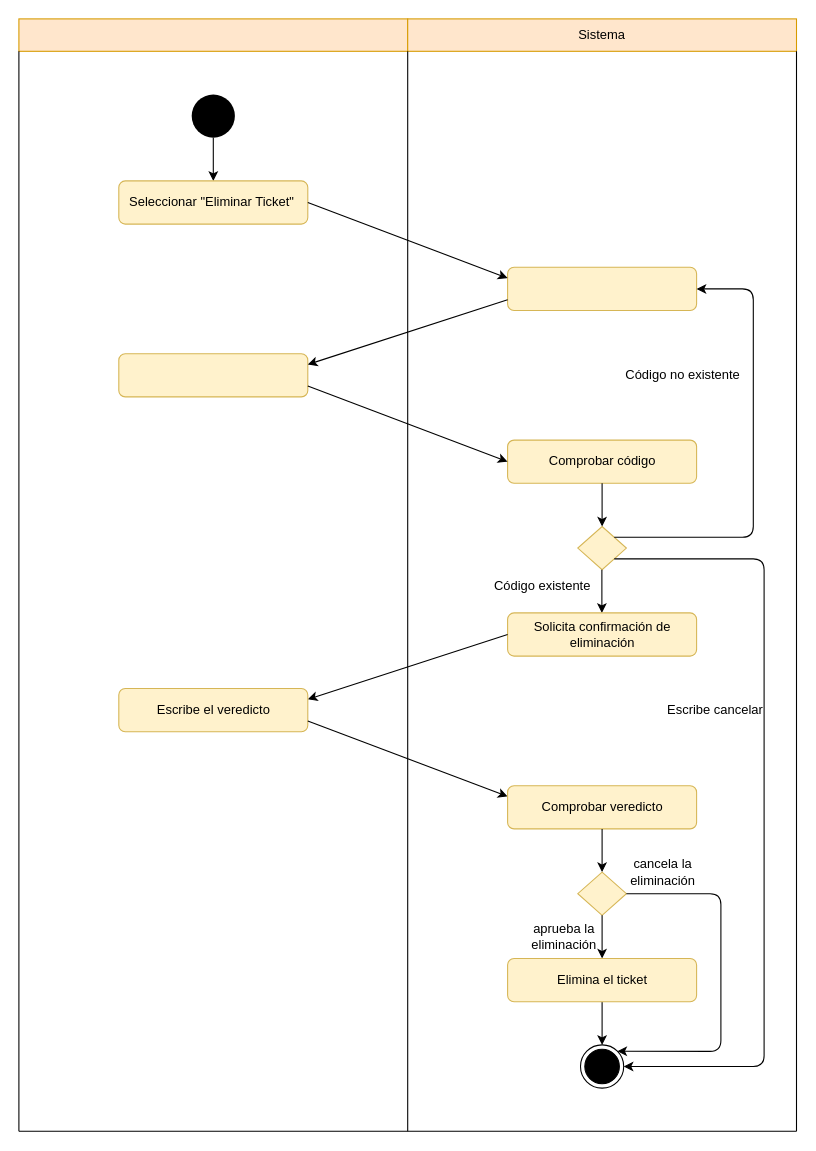
Some shapes in this 816 by 1151 pixel diagram are drawn without their labels. Each missing label, with the centre of its shape:
Dependiente: (213,34)
Escribe el código: (213,375)
Solicita código a eliminar: (602,288)
